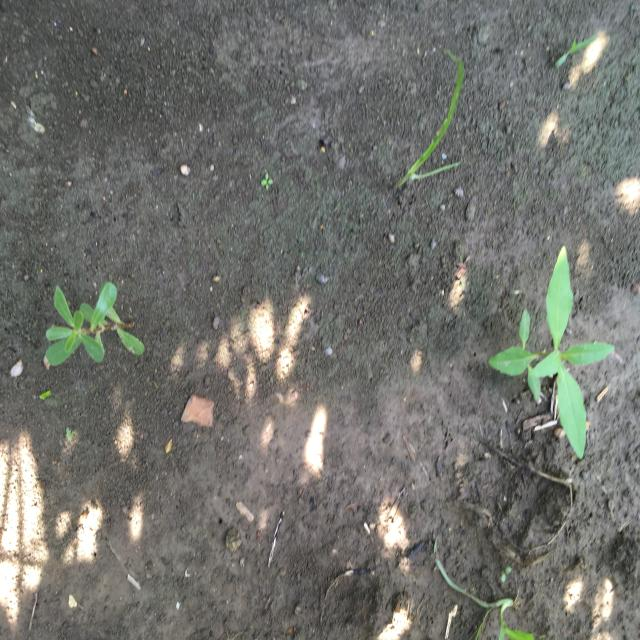Eclipta: (487, 243, 616, 462)
Purslane: (44, 281, 146, 367)
